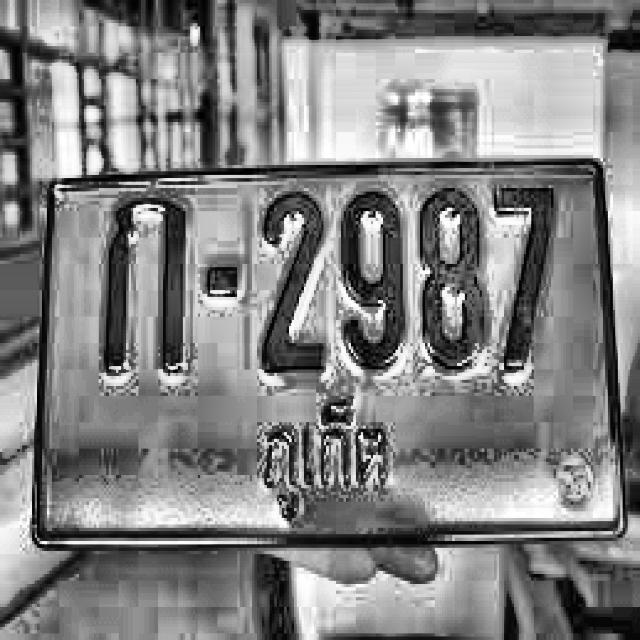license-plate: (35, 160, 631, 545)
